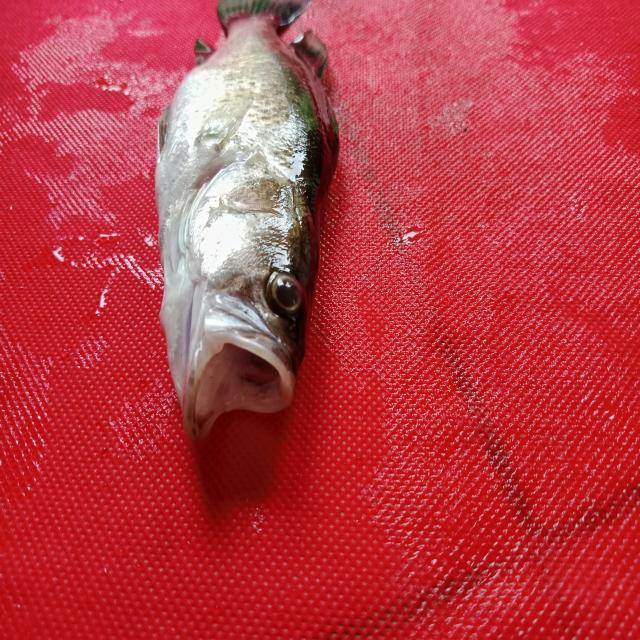ikan: (138, 11, 355, 447)
